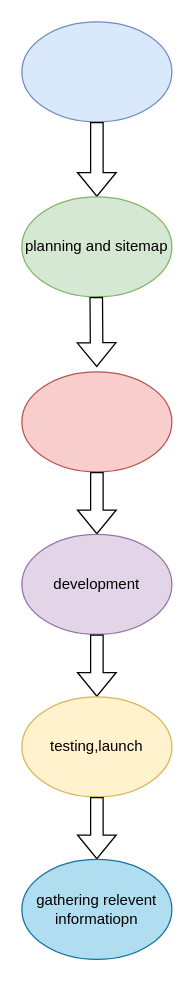
Some shapes in this 194 by 981 pixel diagram are drawn without their labels. The centre of each missing label's shape, as x and y in pixels:
design layout: pixel 96 421
gathering relevent information: pixel 96 71
